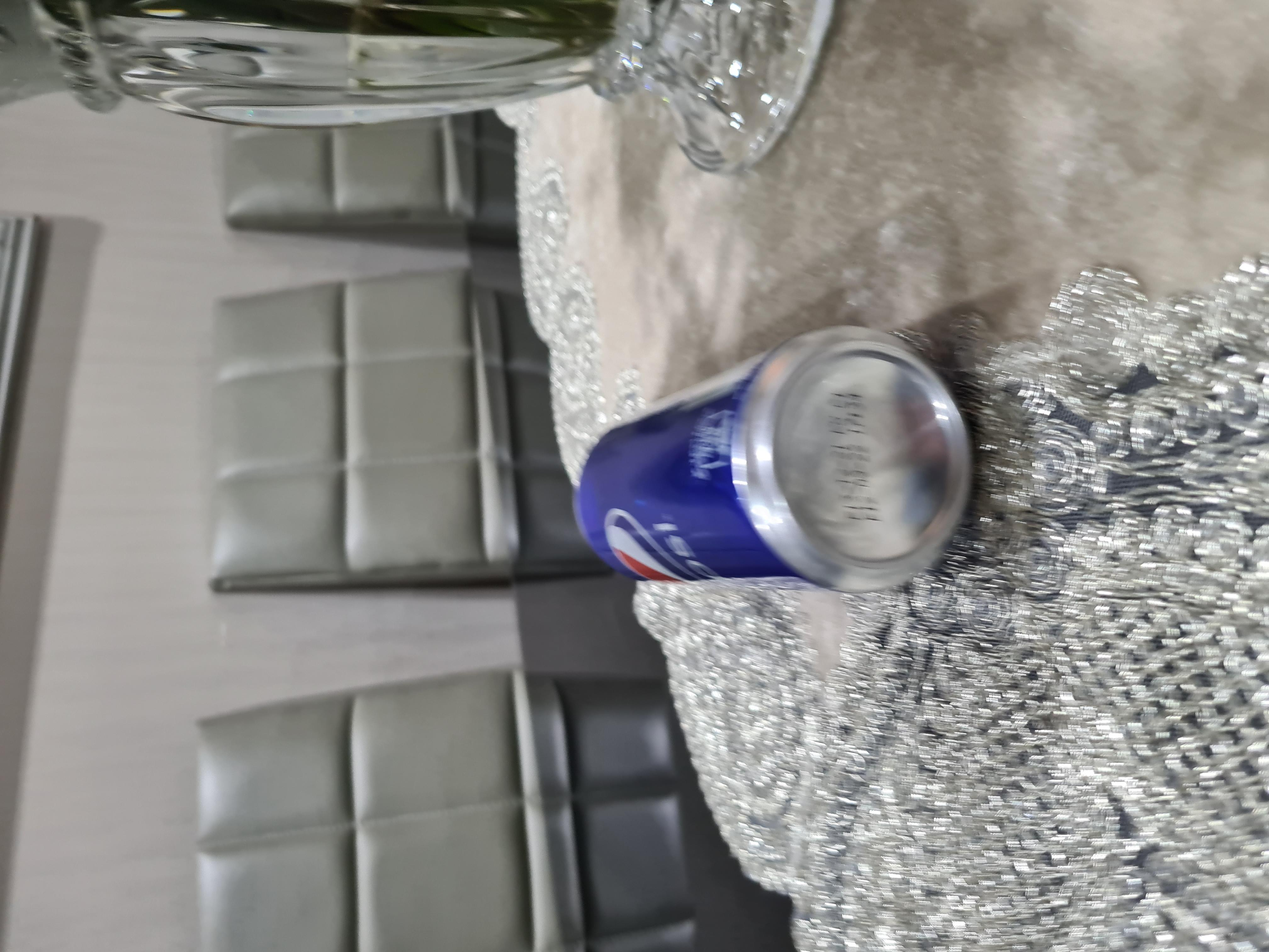debris: (563, 325, 973, 596)
